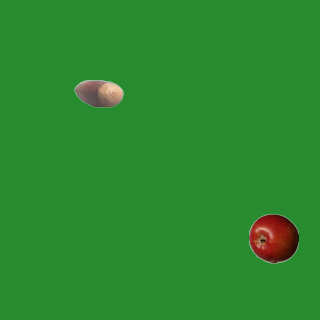Apple Braeburn: (248, 213, 298, 263)
Hazelnut: (73, 68, 123, 118)
